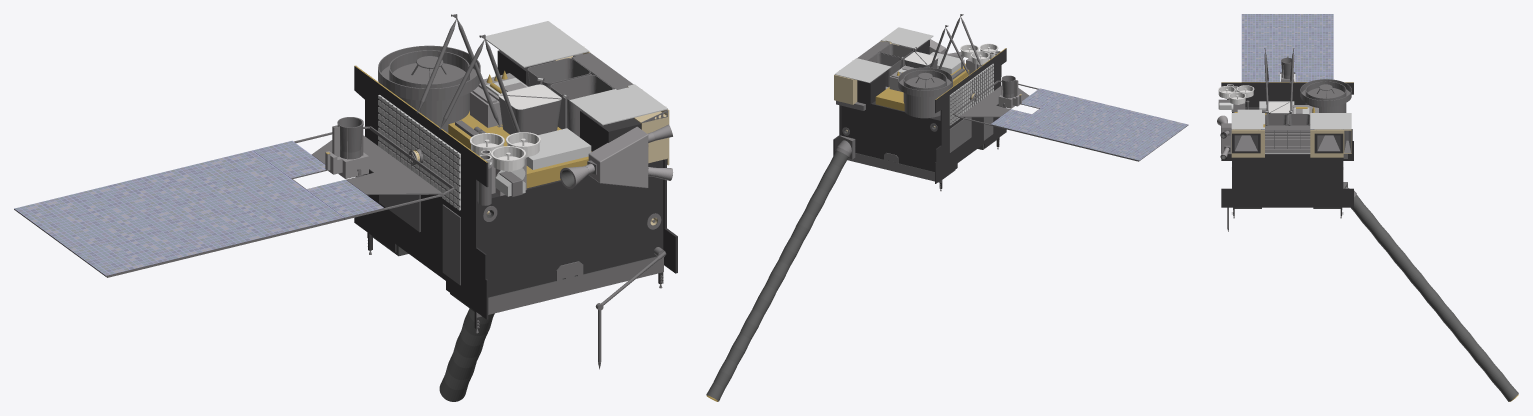
File: goes.glb
The picture shows the model from 3 angles, left to right: view 1: azimuth 30°, elevation 25°; view 2: azimuth 150°, elevation 25°; view 3: azimuth 270°, elevation 25°; orthographic projection. The views are drawn at different scales.
Parts seen in each view (by area): view 1: Layer_0; view 2: Layer_0; view 3: Layer_0.
Part boxes in pixels (bbox=[...]): Layer_0: bbox=[14, 14, 677, 401]; Layer_0: bbox=[706, 14, 1188, 401]; Layer_0: bbox=[1217, 14, 1518, 401].
Size of the model in its own units: 0.1344 by 0.122 by 0.1114.
